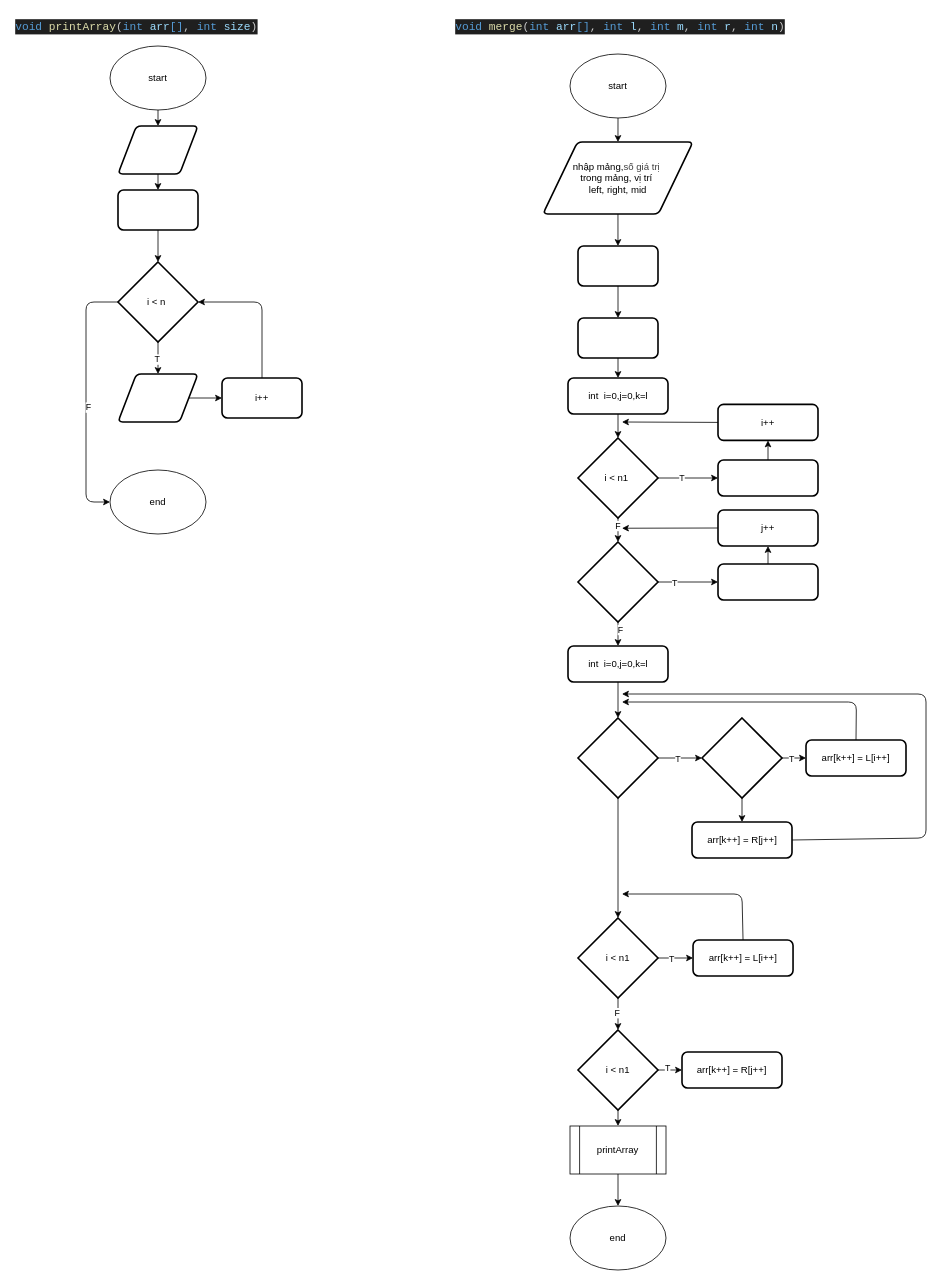
Image size: 946x1284. Some labels were removed from this diagram. The shapes that lost their labels are listed below. From the top down, each one's centre as x and y in pixels, then its label:
At (157,149): "nhập mảng và số giá trị trong mảng".
At (157,209): "i =0".
At (617,265): "int n1 = m - l +1 int n2 = r-m".
At (617,337): "int L[n1] int R[n2]".
At (157,397): "arr[i]".
At (767,477): "L[i] = arr[l+i]".
At (617,581): "j < n2".
At (767,581): "R[j] = arr[(m+1)+j]".
At (617,757): "i < n1 && j < n2".
At (741,757): "L[i] <= R[j]".
